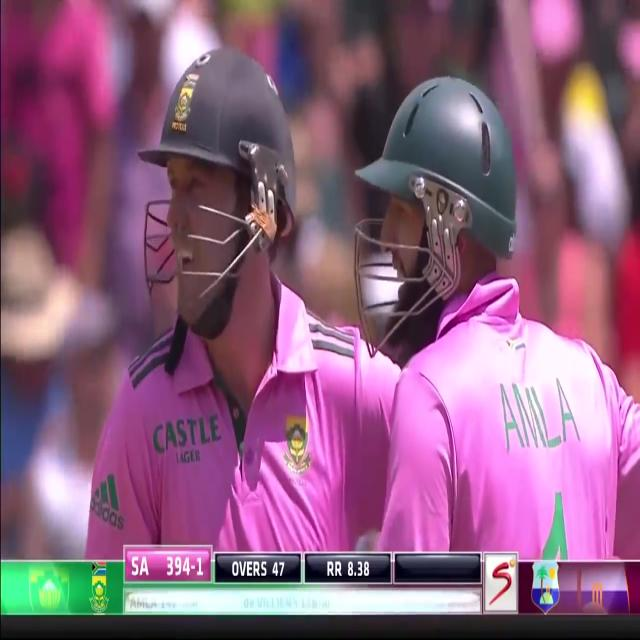Ball: (81, 48, 419, 552), (359, 81, 640, 561)
